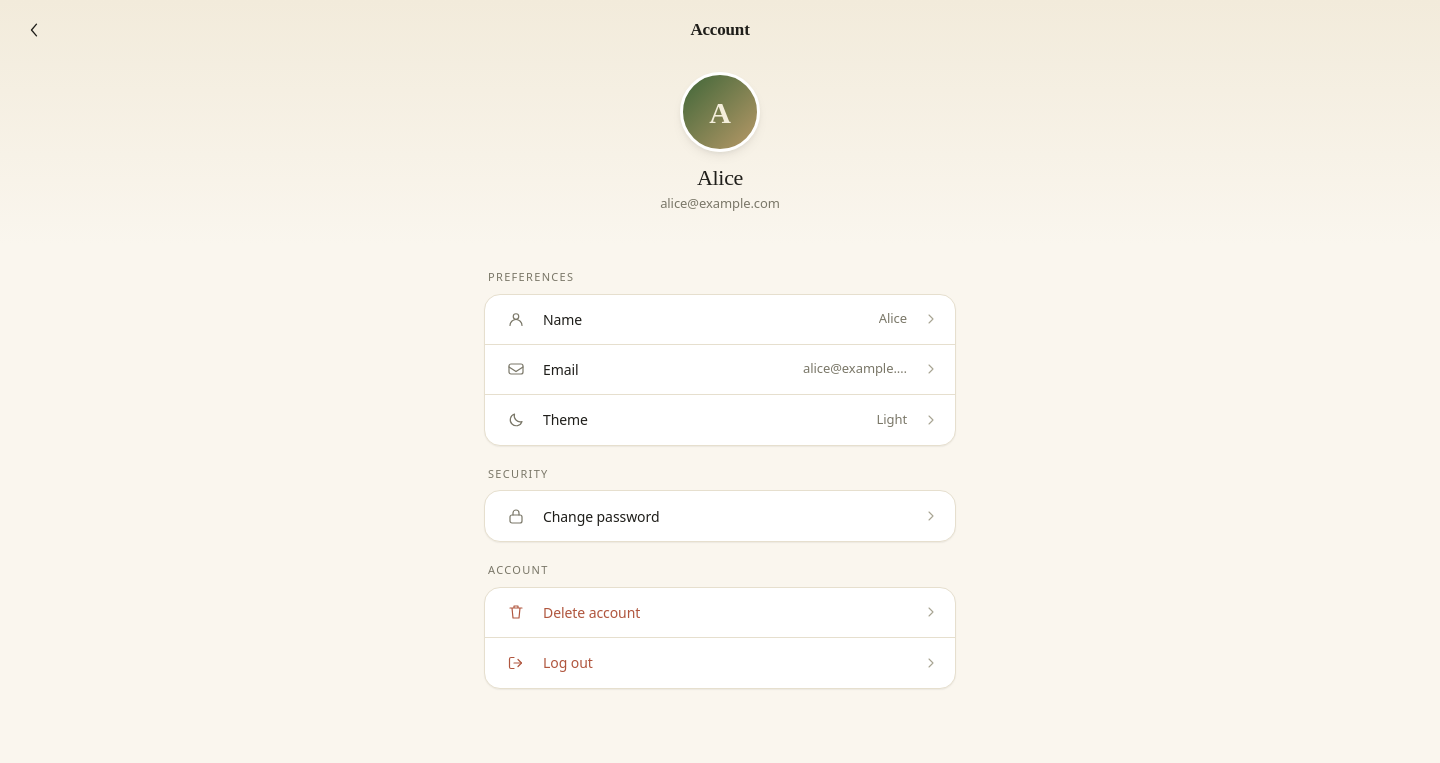
Test case: AccountPage › shows first confirmation step when Delete account is clicked
The width and height of the screenshot is (1440, 763).
What coordinates should you click on to do the following:
click the button "Delete account"
I would click on:
 (592, 612)
Its box is [485,588,955,638].
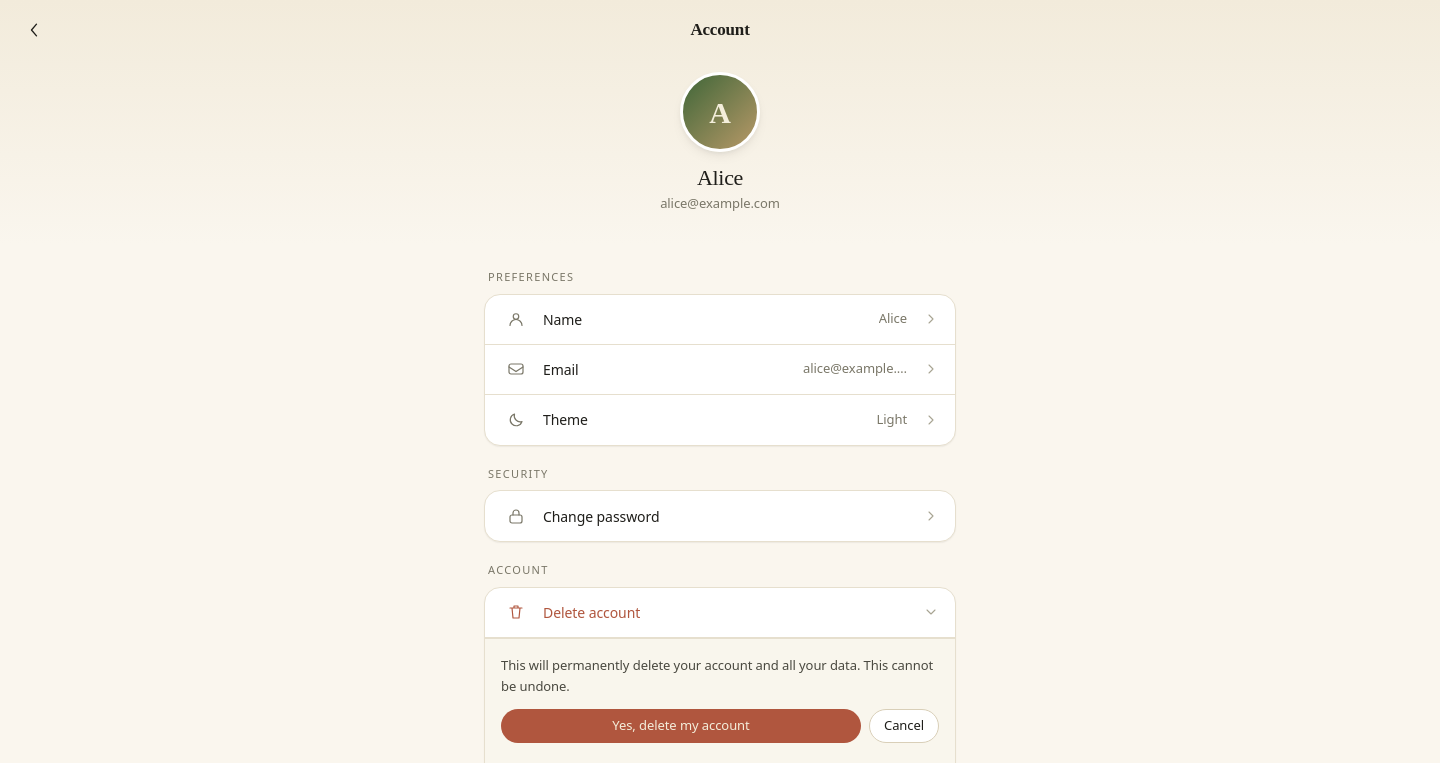
Check: the text "permanently delete" is shown, box [501,656,933,695]
Check: the button "Yes, delete my account" is shown, box [501,709,861,743]
